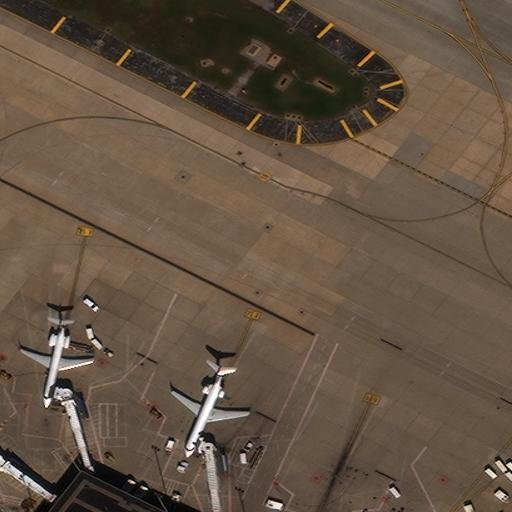Medium Civil Transport: (172, 365, 249, 456), (21, 319, 93, 408)
